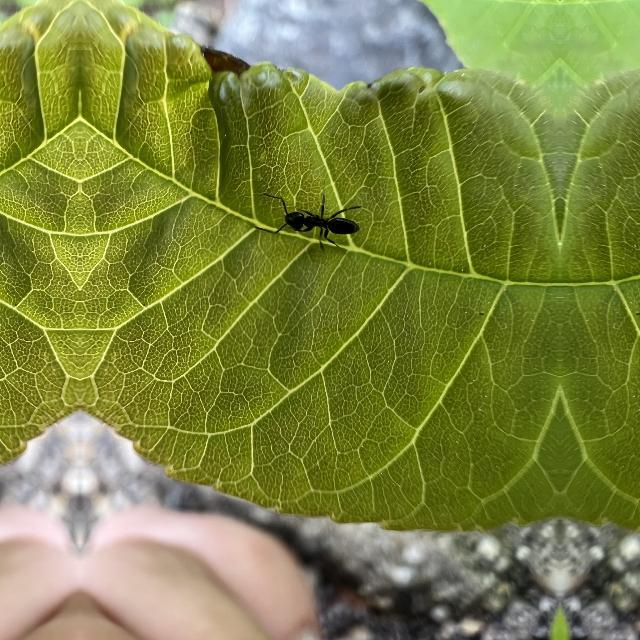Tapinoma: (274, 186, 366, 258)
